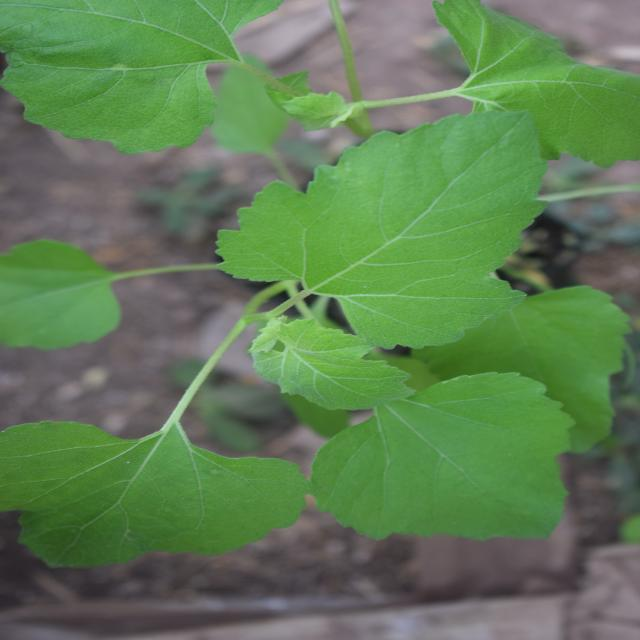cocklebur: (62, 18, 531, 600)
